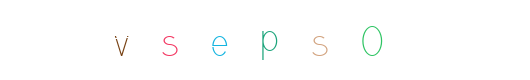0: (289, 0, 369, 80)
E: (188, 0, 268, 80)
P: (225, 0, 305, 80)
S: (179, 0, 259, 80), (257, 0, 337, 80)
V: (99, 0, 179, 80)
